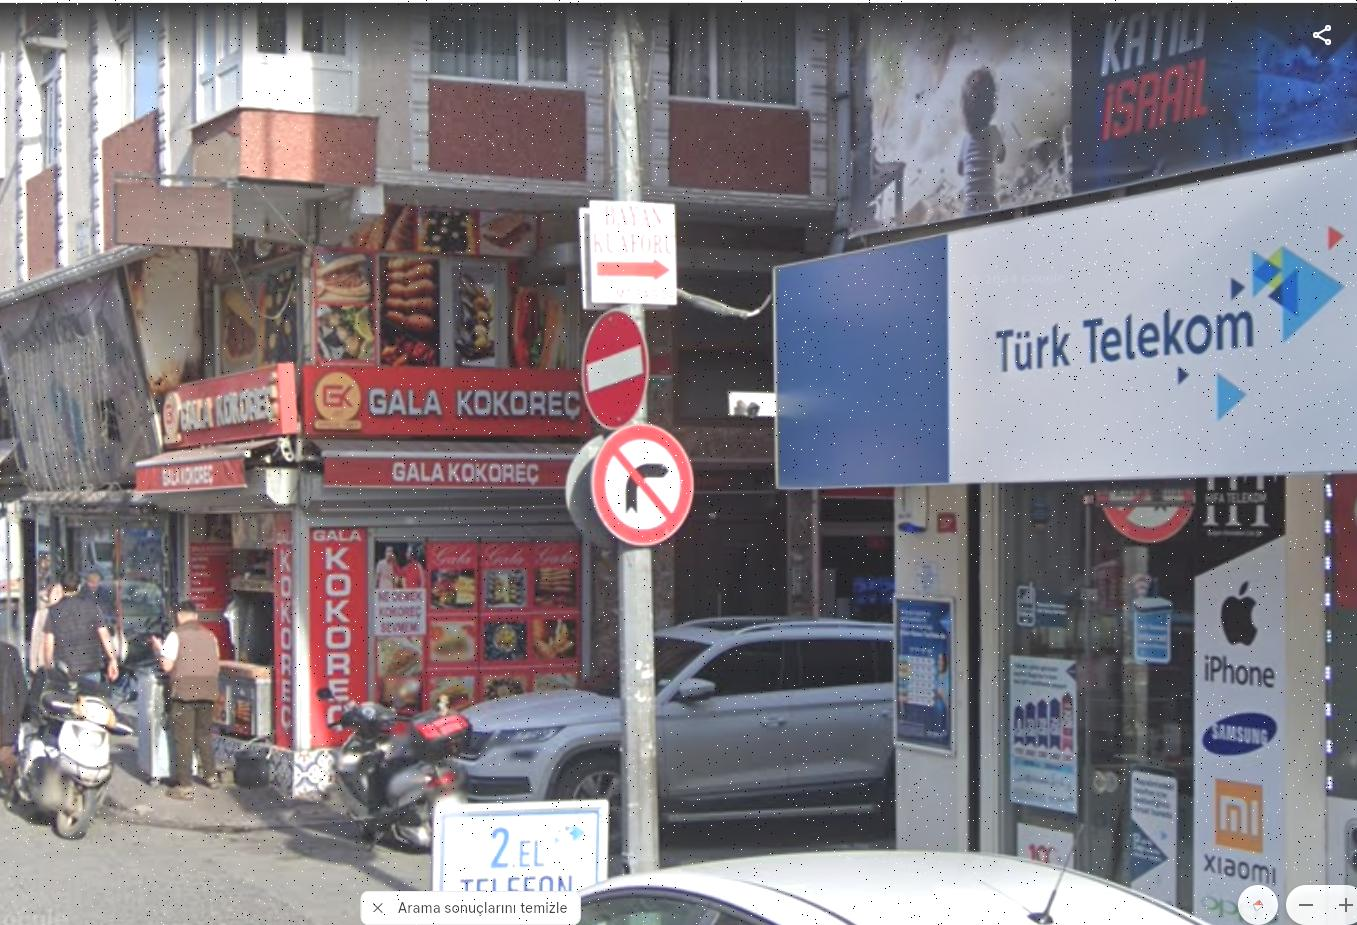rightturnsareforbidden: (596, 428, 696, 540)
